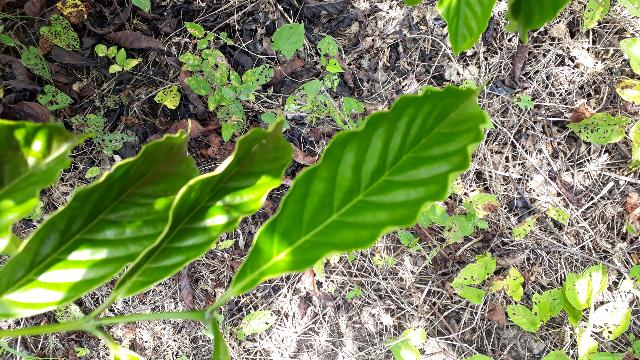healthy: (221, 73, 499, 306)
